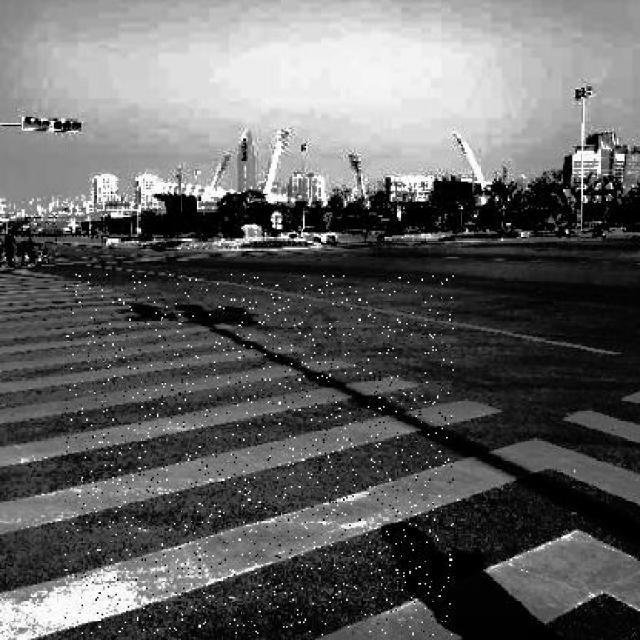crosswalk: (0, 275, 544, 583), (567, 390, 640, 450)
